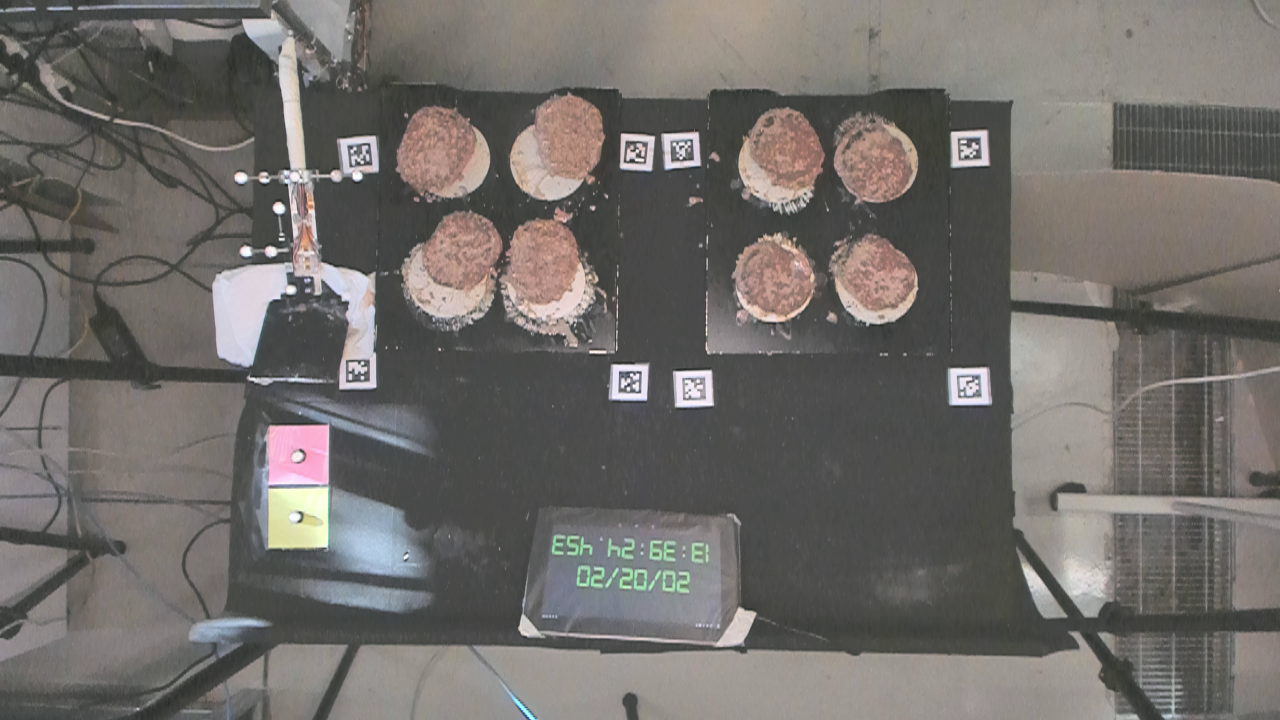hamburger: (390, 99, 481, 193), (729, 232, 816, 319), (835, 121, 915, 214), (529, 89, 609, 180), (745, 102, 825, 190), (420, 207, 502, 292), (836, 231, 918, 315), (504, 221, 580, 305)
marker: (263, 421, 333, 488)
